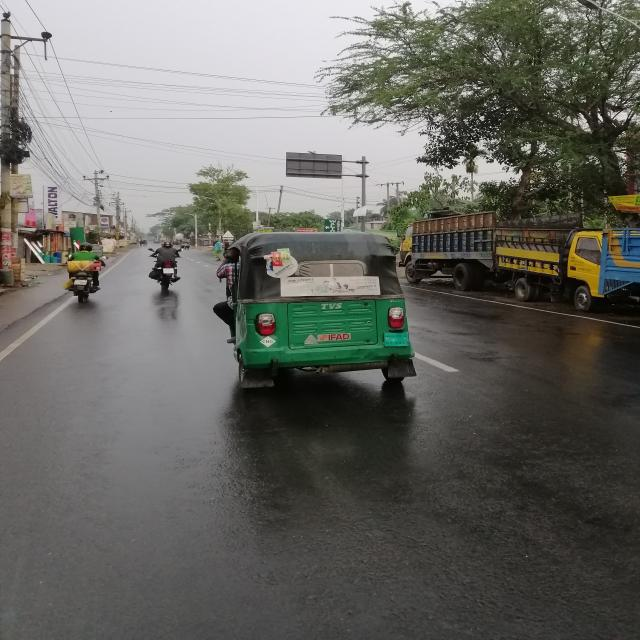CNG: (220, 230, 424, 398)
Motorbike: (59, 259, 115, 306), (150, 258, 179, 295)
